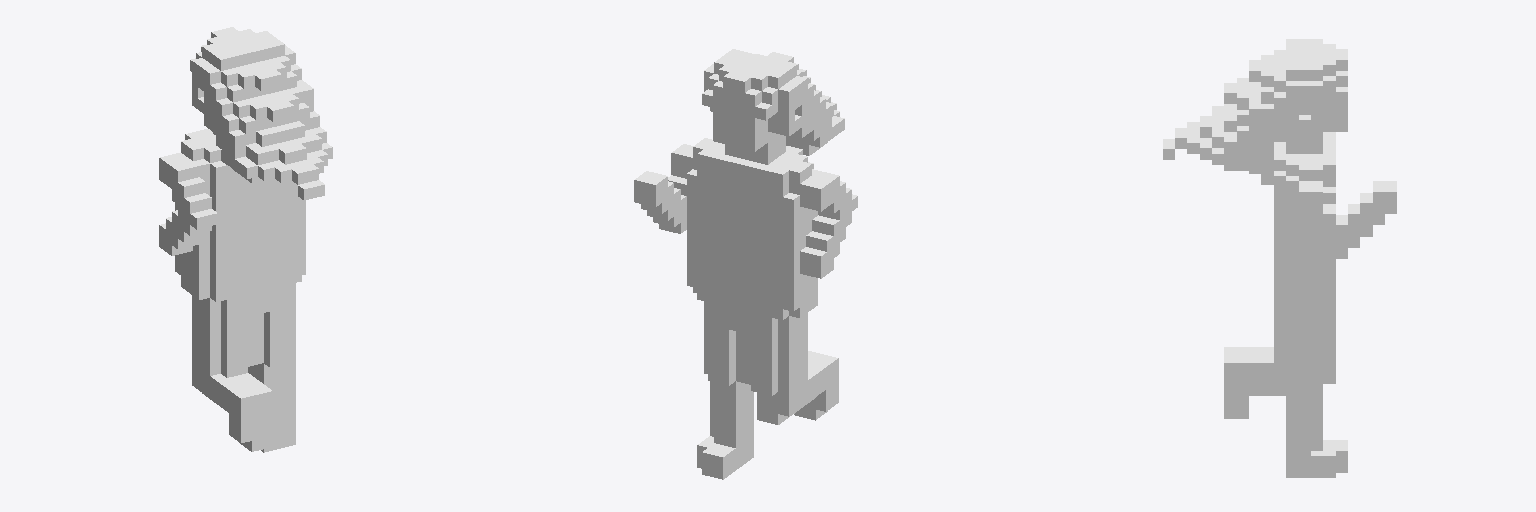
Rendered from jacky_renn_2.obj.
3 renders of one model, left to right at view 1: azimuth 30°, elevation 25°; view 2: azimuth 150°, elevation 25°; view 3: azimuth 270°, elevation 25°, orthographic.
Visible parts, largest first — view 1: object 1; view 2: object 1; view 3: object 1.
Part boxes in pixels (bbox=[...]): object 1: bbox=[159, 27, 332, 452]; object 1: bbox=[634, 49, 857, 479]; object 1: bbox=[1163, 39, 1396, 477].
Bounding box in the file's own units: 1.4 × 3.6 × 1.9.